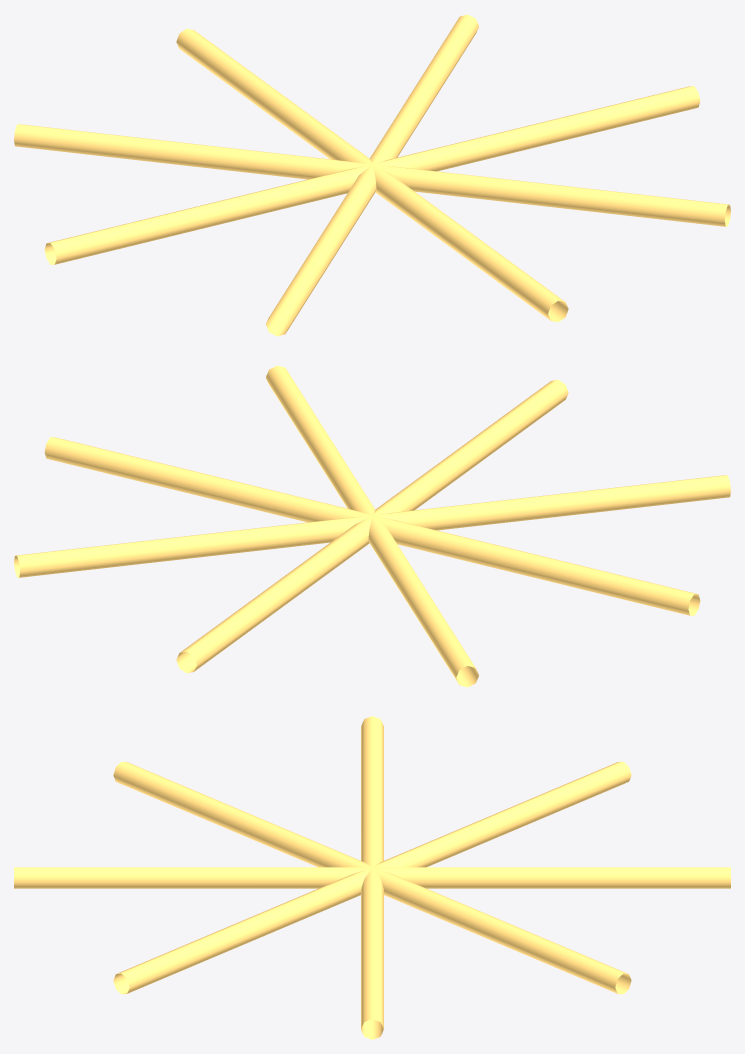
File: rune_1.glb
3 renders of one model, top to bottom at view 1: azimuth 30°, elevation 25°; view 2: azimuth 150°, elevation 25°; view 3: azimuth 270°, elevation 25°, orthographic. The views are drawn at different scales.
Visible parts, largest first — view 1: Rune_1; view 2: Rune_1; view 3: Rune_1.
Part boxes in pixels (left/top/right/bottom): Rune_1: left=14, top=14, right=730, bottom=336; Rune_1: left=14, top=365, right=730, bottom=687; Rune_1: left=14, top=716, right=730, bottom=1039.
Bounding box in the file's own units: 0.028 × 0.0009 × 0.028.
